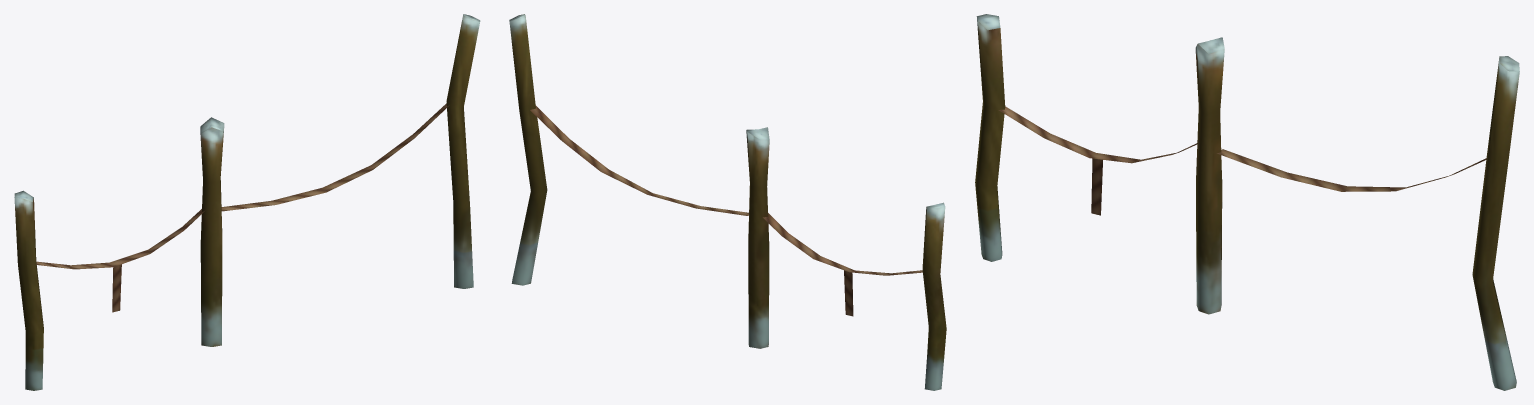
The model's file is Stage_BingYuan_LiBa06.FBX.
3 renders of one model, left to right at view 1: azimuth 30°, elevation 25°; view 2: azimuth 150°, elevation 25°; view 3: azimuth 330°, elevation 25°, orthographic. The views are drawn at different scales.
Visible parts, largest first — view 1: Stage_BingYuan_LiBa06; view 2: Stage_BingYuan_LiBa06; view 3: Stage_BingYuan_LiBa06.
Part boxes in pixels (x1=…): Stage_BingYuan_LiBa06: x1=14, y1=14, x2=480, y2=390; Stage_BingYuan_LiBa06: x1=509, y1=14, x2=946, y2=390; Stage_BingYuan_LiBa06: x1=975, y1=14, x2=1519, y2=390.
Size of the model in its own units: 465 by 265 by 44.83.
